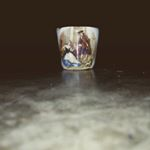cups: (53, 22, 102, 73)
